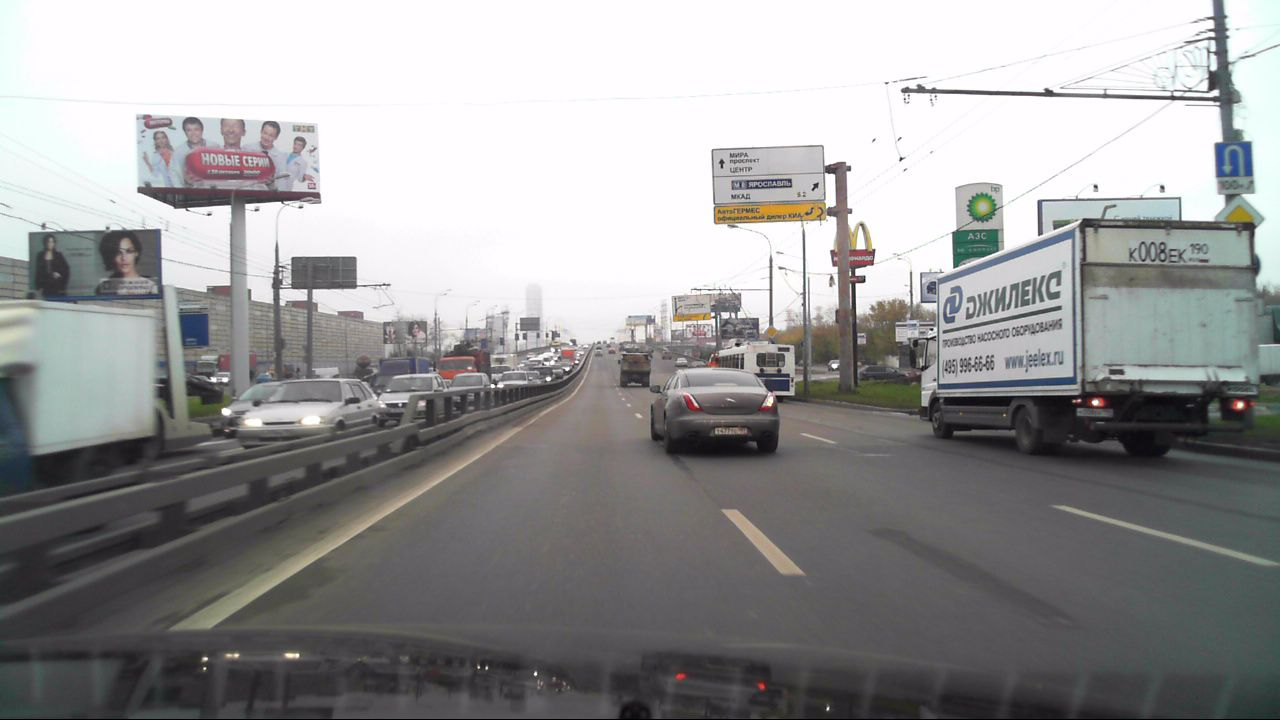U-turn: (1215, 142, 1252, 177)
